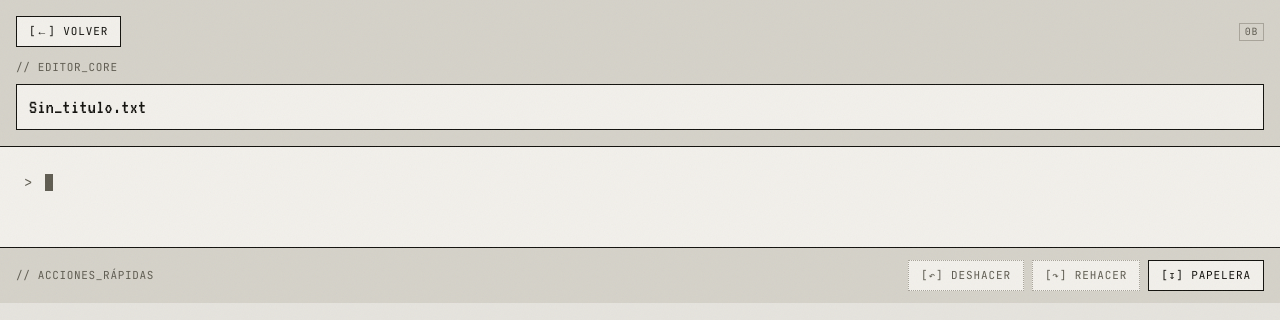
NoteEditor · comandos › Enter sobre un comando lo ejecuta y muestra la respuesta
In the text box named "contenido": (644, 194) [24,171,1264,216], type "//version"
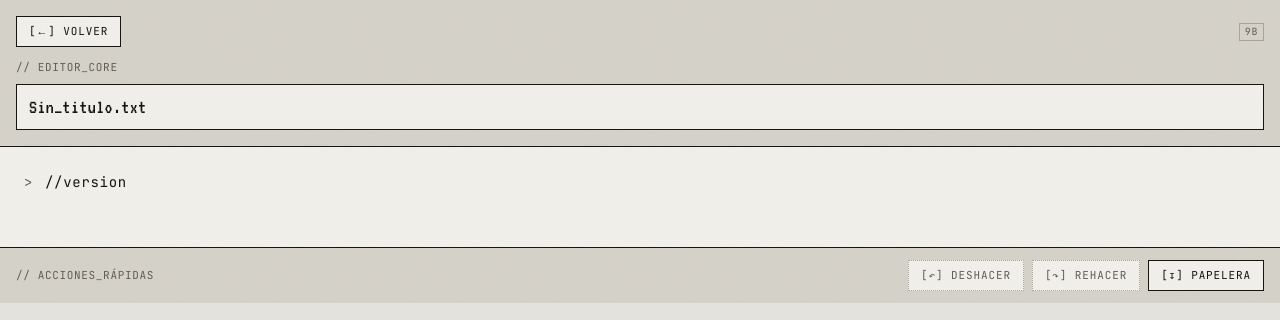
Press Enter in the text box named "contenido", box [24,171,1264,216]
Wait 900 ms
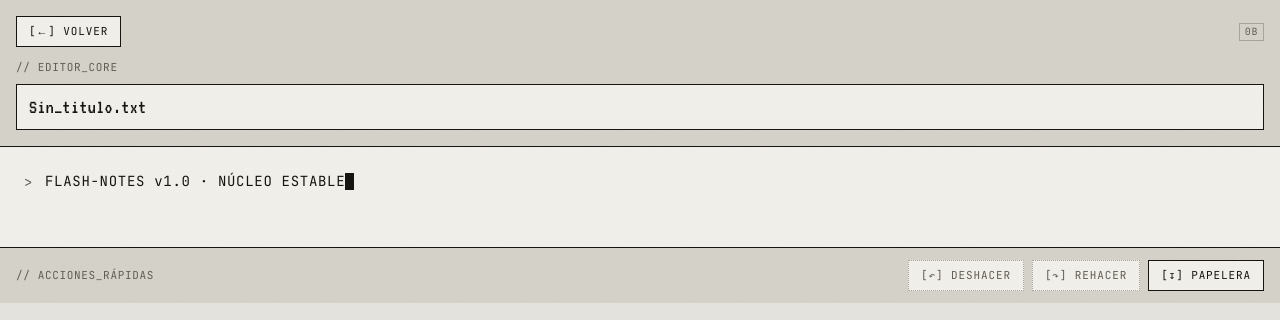
Result: the text "FLASH-NOTES v1.0 · NÚCLEO ESTABLE" is shown at [45,172,354,190]
